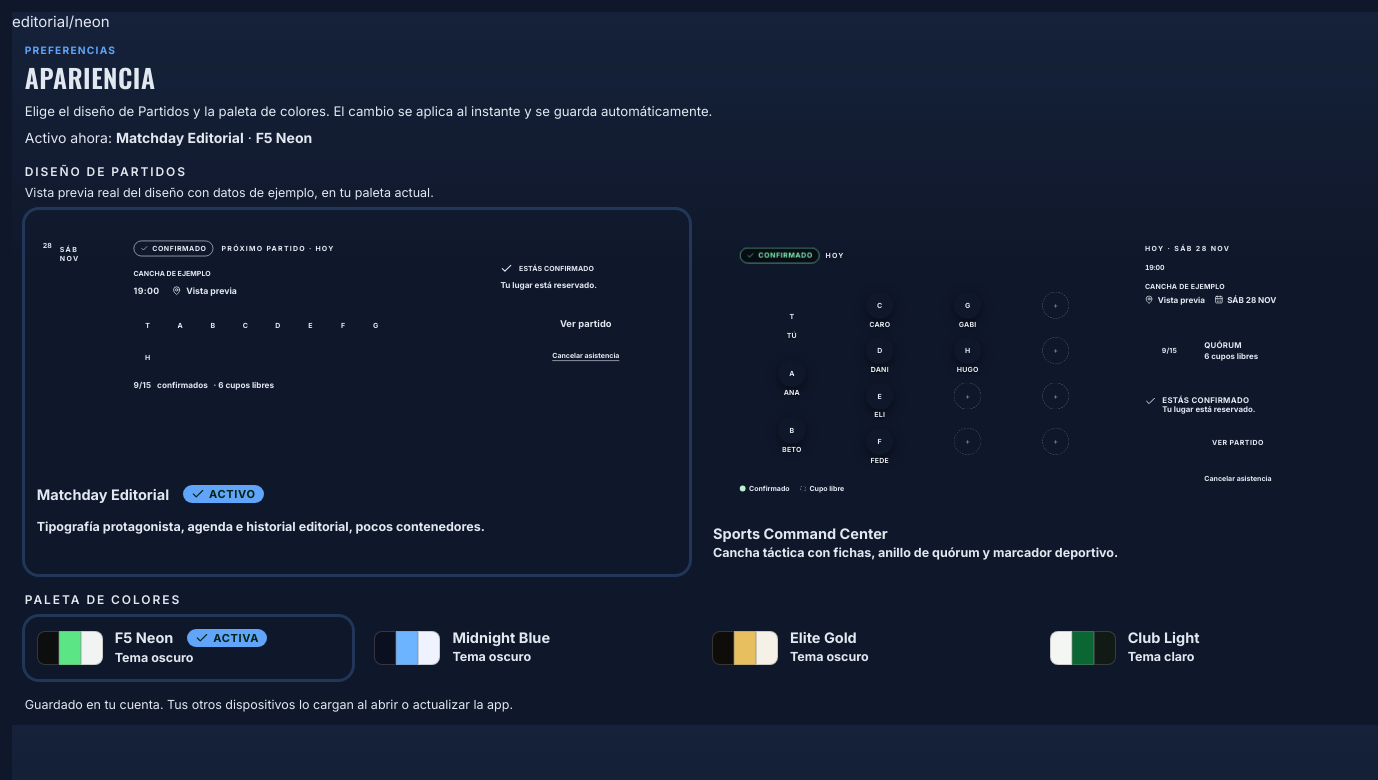
Test case: appearance preferences › selector changes design/palette instantly, persists, and syncs to the signed-in user
The image size is (1378, 780).
Click the radio button labelled "Sports Command Center".
click(1033, 392)  # box [701, 210, 1365, 574]
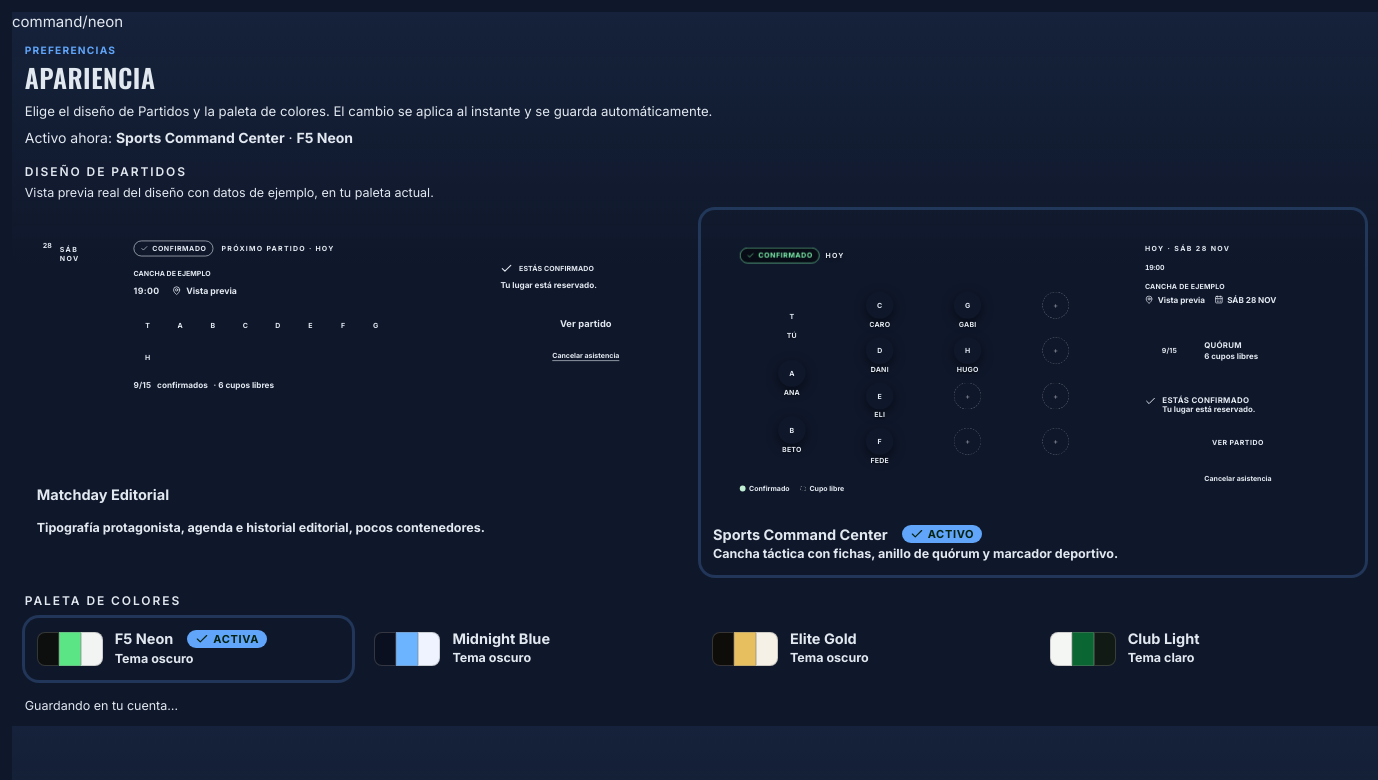
Click the radio button labelled "Elite Gold Tema oscuro".
click(790, 648)  # box [712, 630, 869, 666]
Wait 600 ms
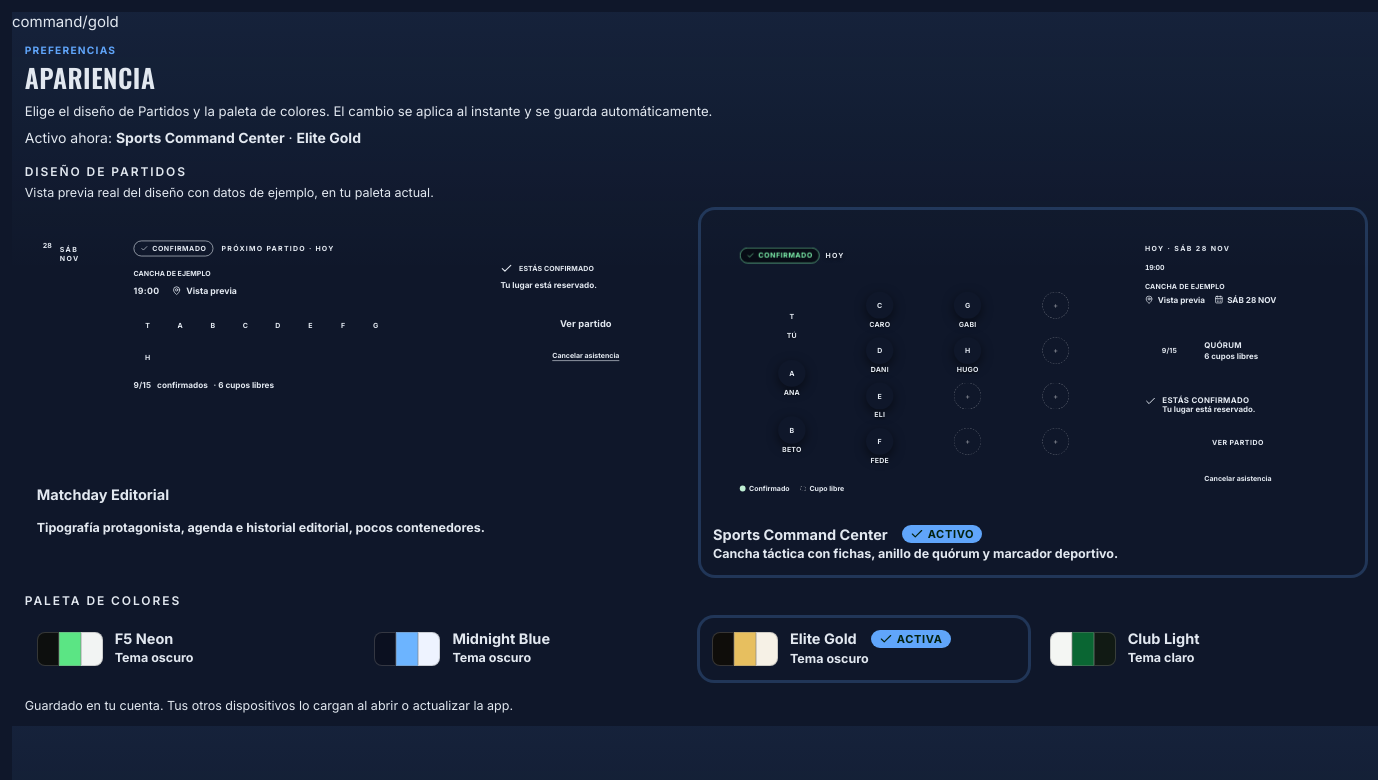
Now the text with test id "probe" reads "command/gold", box [12, 12, 119, 31]
